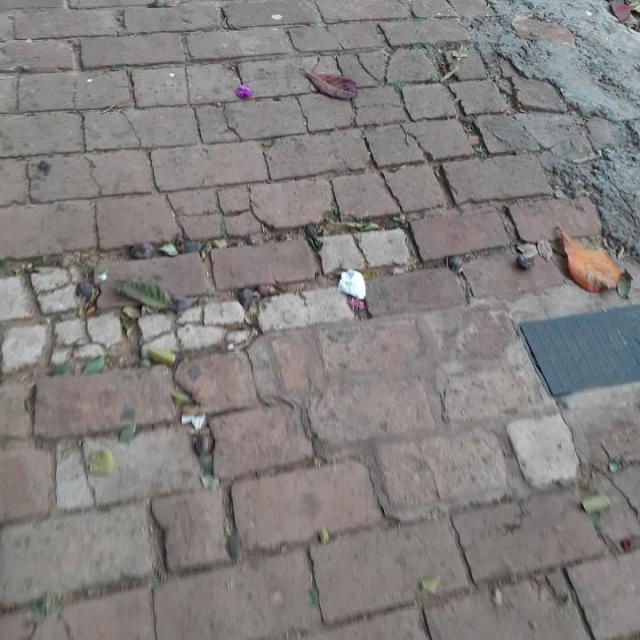litter: (332, 259, 383, 306)
